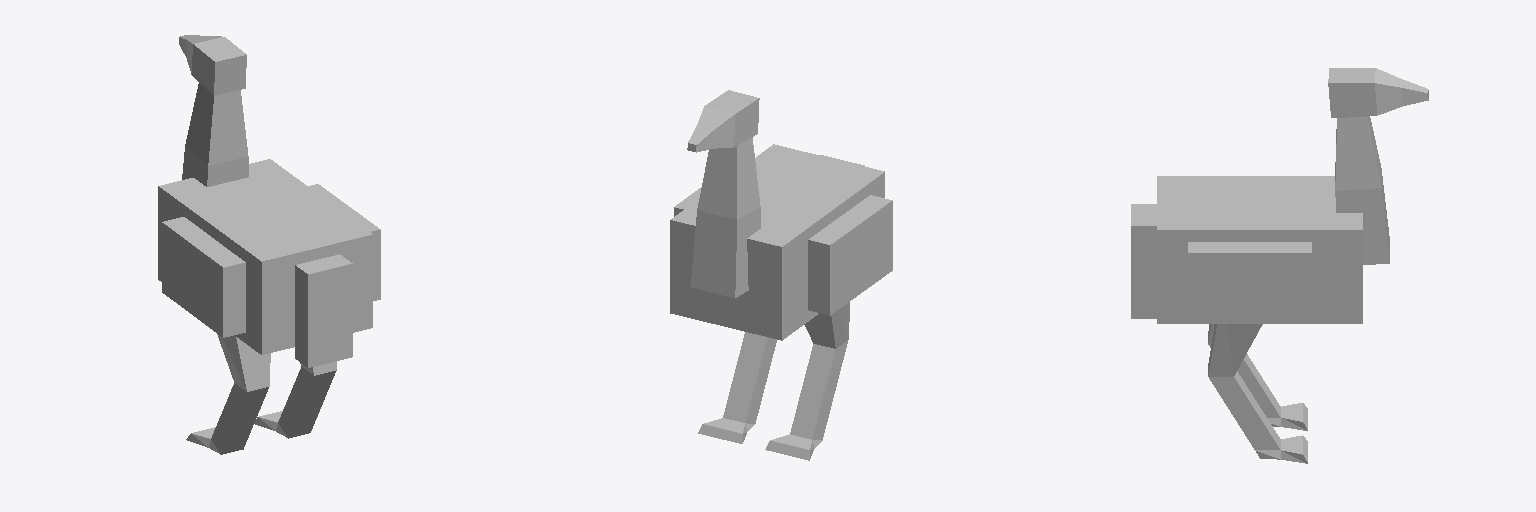
The model's file is Ostrich_000032.obj.
3 views of the same model, side by side, from view 1: azimuth 30°, elevation 25°; view 2: azimuth 150°, elevation 25°; view 3: azimuth 270°, elevation 25° (orthographic).
Visible parts, largest first — view 1: Cube_Cube.001; view 2: Cube_Cube.001; view 3: Cube_Cube.001.
Part boxes in pixels (x1,y1,x2,y2): Cube_Cube.001: (158, 35, 380, 454); Cube_Cube.001: (670, 90, 892, 460); Cube_Cube.001: (1131, 68, 1428, 463).
Bounding box in the file's own units: 0.7033 × 1.54 × 1.15.